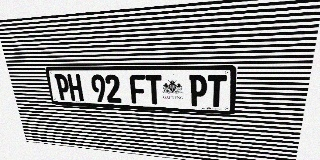2: (104, 75, 121, 103)
9: (90, 74, 107, 102)
F: (129, 75, 146, 104)
H: (67, 74, 84, 101)
P: (189, 75, 207, 107), (54, 74, 71, 101)
T: (207, 75, 227, 107), (145, 75, 162, 105)
